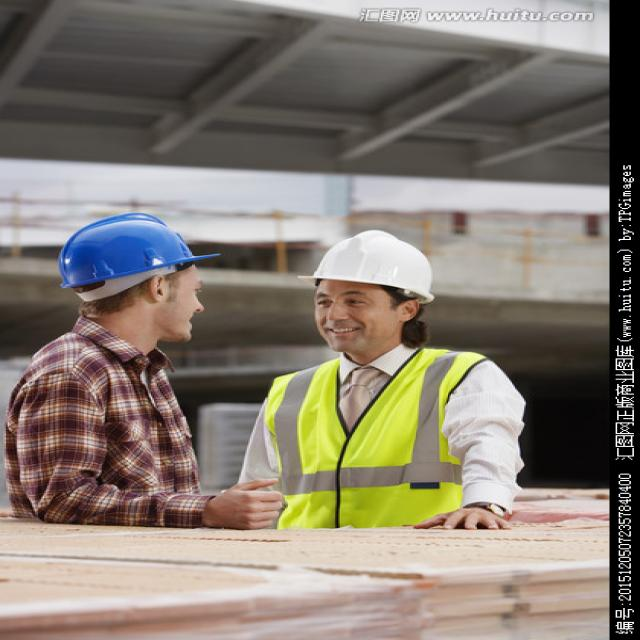Reflective-Jacket: (252, 346, 502, 531)
Safety-Helmet: (51, 210, 222, 292), (296, 226, 442, 305)
